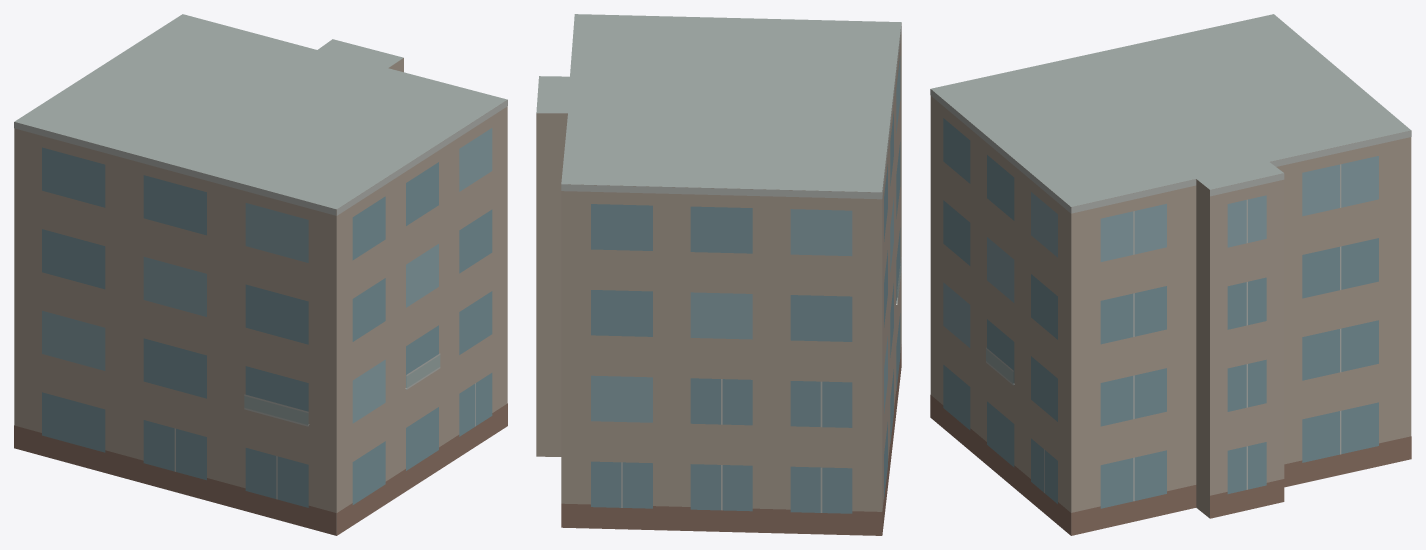
The model's file is survey-upis-32828245.glb.
3 views of the same model, side by side, from view 1: azimuth 30°, elevation 25°; view 2: azimuth 150°, elevation 25°; view 3: azimuth 270°, elevation 25° (orthographic). The views are drawn at different scales.
Visible parts, largest first — view 1: survey-upis-32828245.tmp; view 2: survey-upis-32828245.tmp; view 3: survey-upis-32828245.tmp.
Boxes of the visible parts, x1=… form: survey-upis-32828245.tmp: x1=14, y1=14, x2=507, y2=535; survey-upis-32828245.tmp: x1=536, y1=14, x2=901, y2=535; survey-upis-32828245.tmp: x1=930, y1=14, x2=1411, y2=535.
Bounding box in the file's own units: 15.38 × 12.2 × 16.18.
